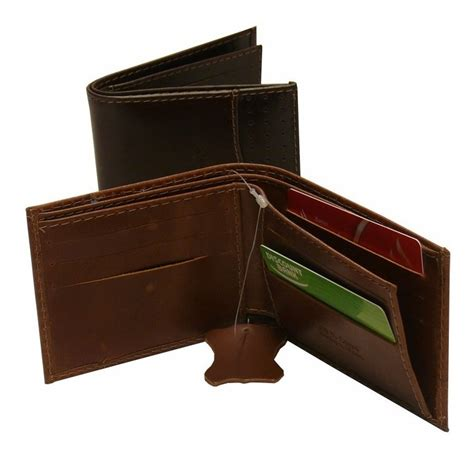cuero: (25, 26, 450, 434)
